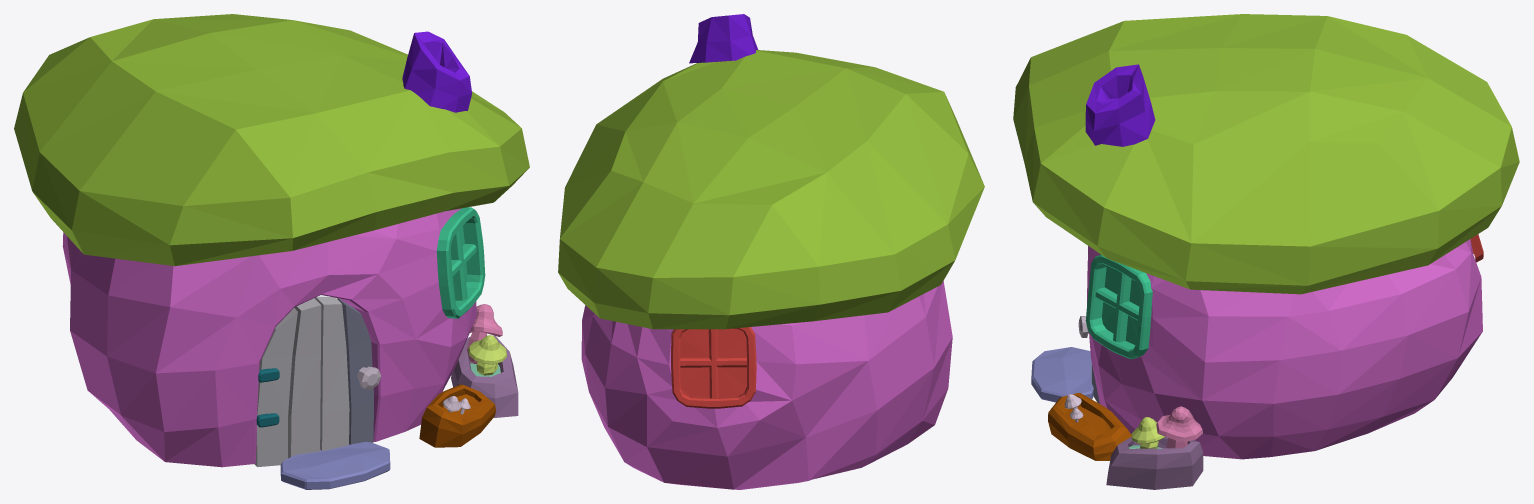
3 views of the same model, side by side, from view 1: azimuth 30°, elevation 25°; view 2: azimuth 150°, elevation 25°; view 3: azimuth 270°, elevation 25° (orthographic). The views are drawn at different scales.
Parts seen in each view (by area): view 1: world; view 2: world; view 3: world.
Boxes of the visible parts, x1,y1,x2,y2 form: world: (14, 14, 529, 489); world: (558, 14, 984, 489); world: (1013, 14, 1519, 489).
Bounding box in the file's own units: 0.858 × 0.7751 × 0.9377.
